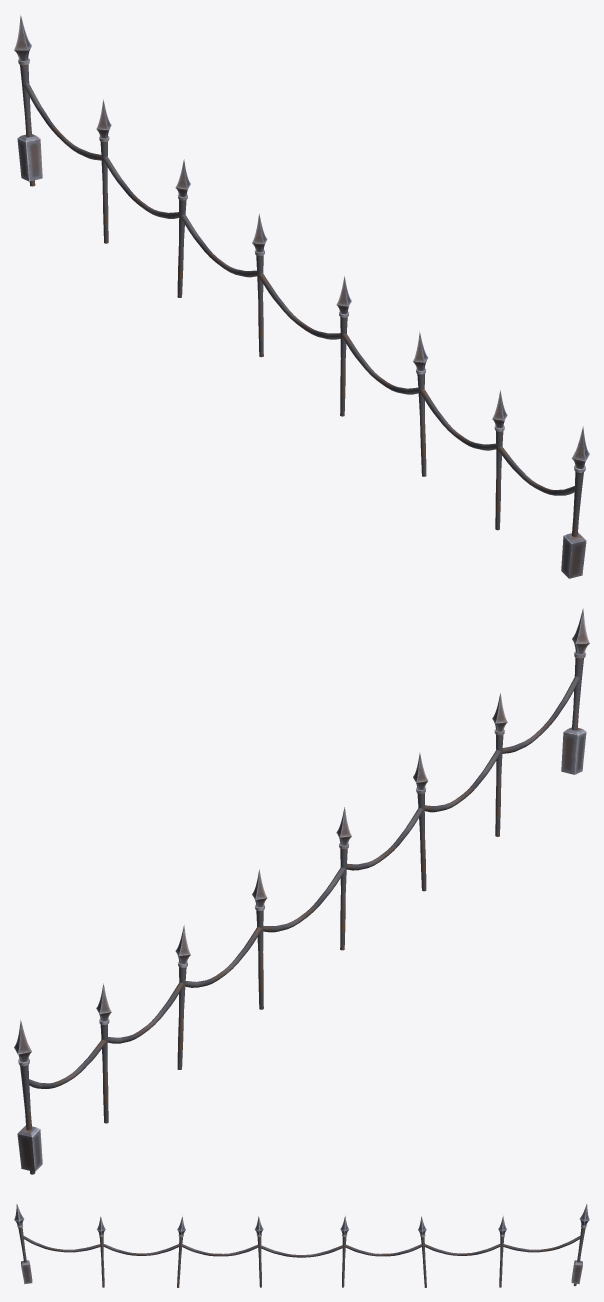
File: Roof_Spikes10.glb
3 views of the same model, one above another, from view 1: azimuth 30°, elevation 25°; view 2: azimuth 150°, elevation 25°; view 3: azimuth 270°, elevation 25° (orthographic). The views are drawn at different scales.
Visible parts, largest first — view 1: Roof_Spikes10; view 2: Roof_Spikes10; view 3: Roof_Spikes10.
Part boxes in pixels (bbox=[...]): Roof_Spikes10: bbox=[14, 15, 589, 578]; Roof_Spikes10: bbox=[14, 608, 589, 1174]; Roof_Spikes10: bbox=[14, 1204, 589, 1287].
Size of the model in its own units: 0.1788 by 1.56 by 9.67.
1 material, 1 textured.
